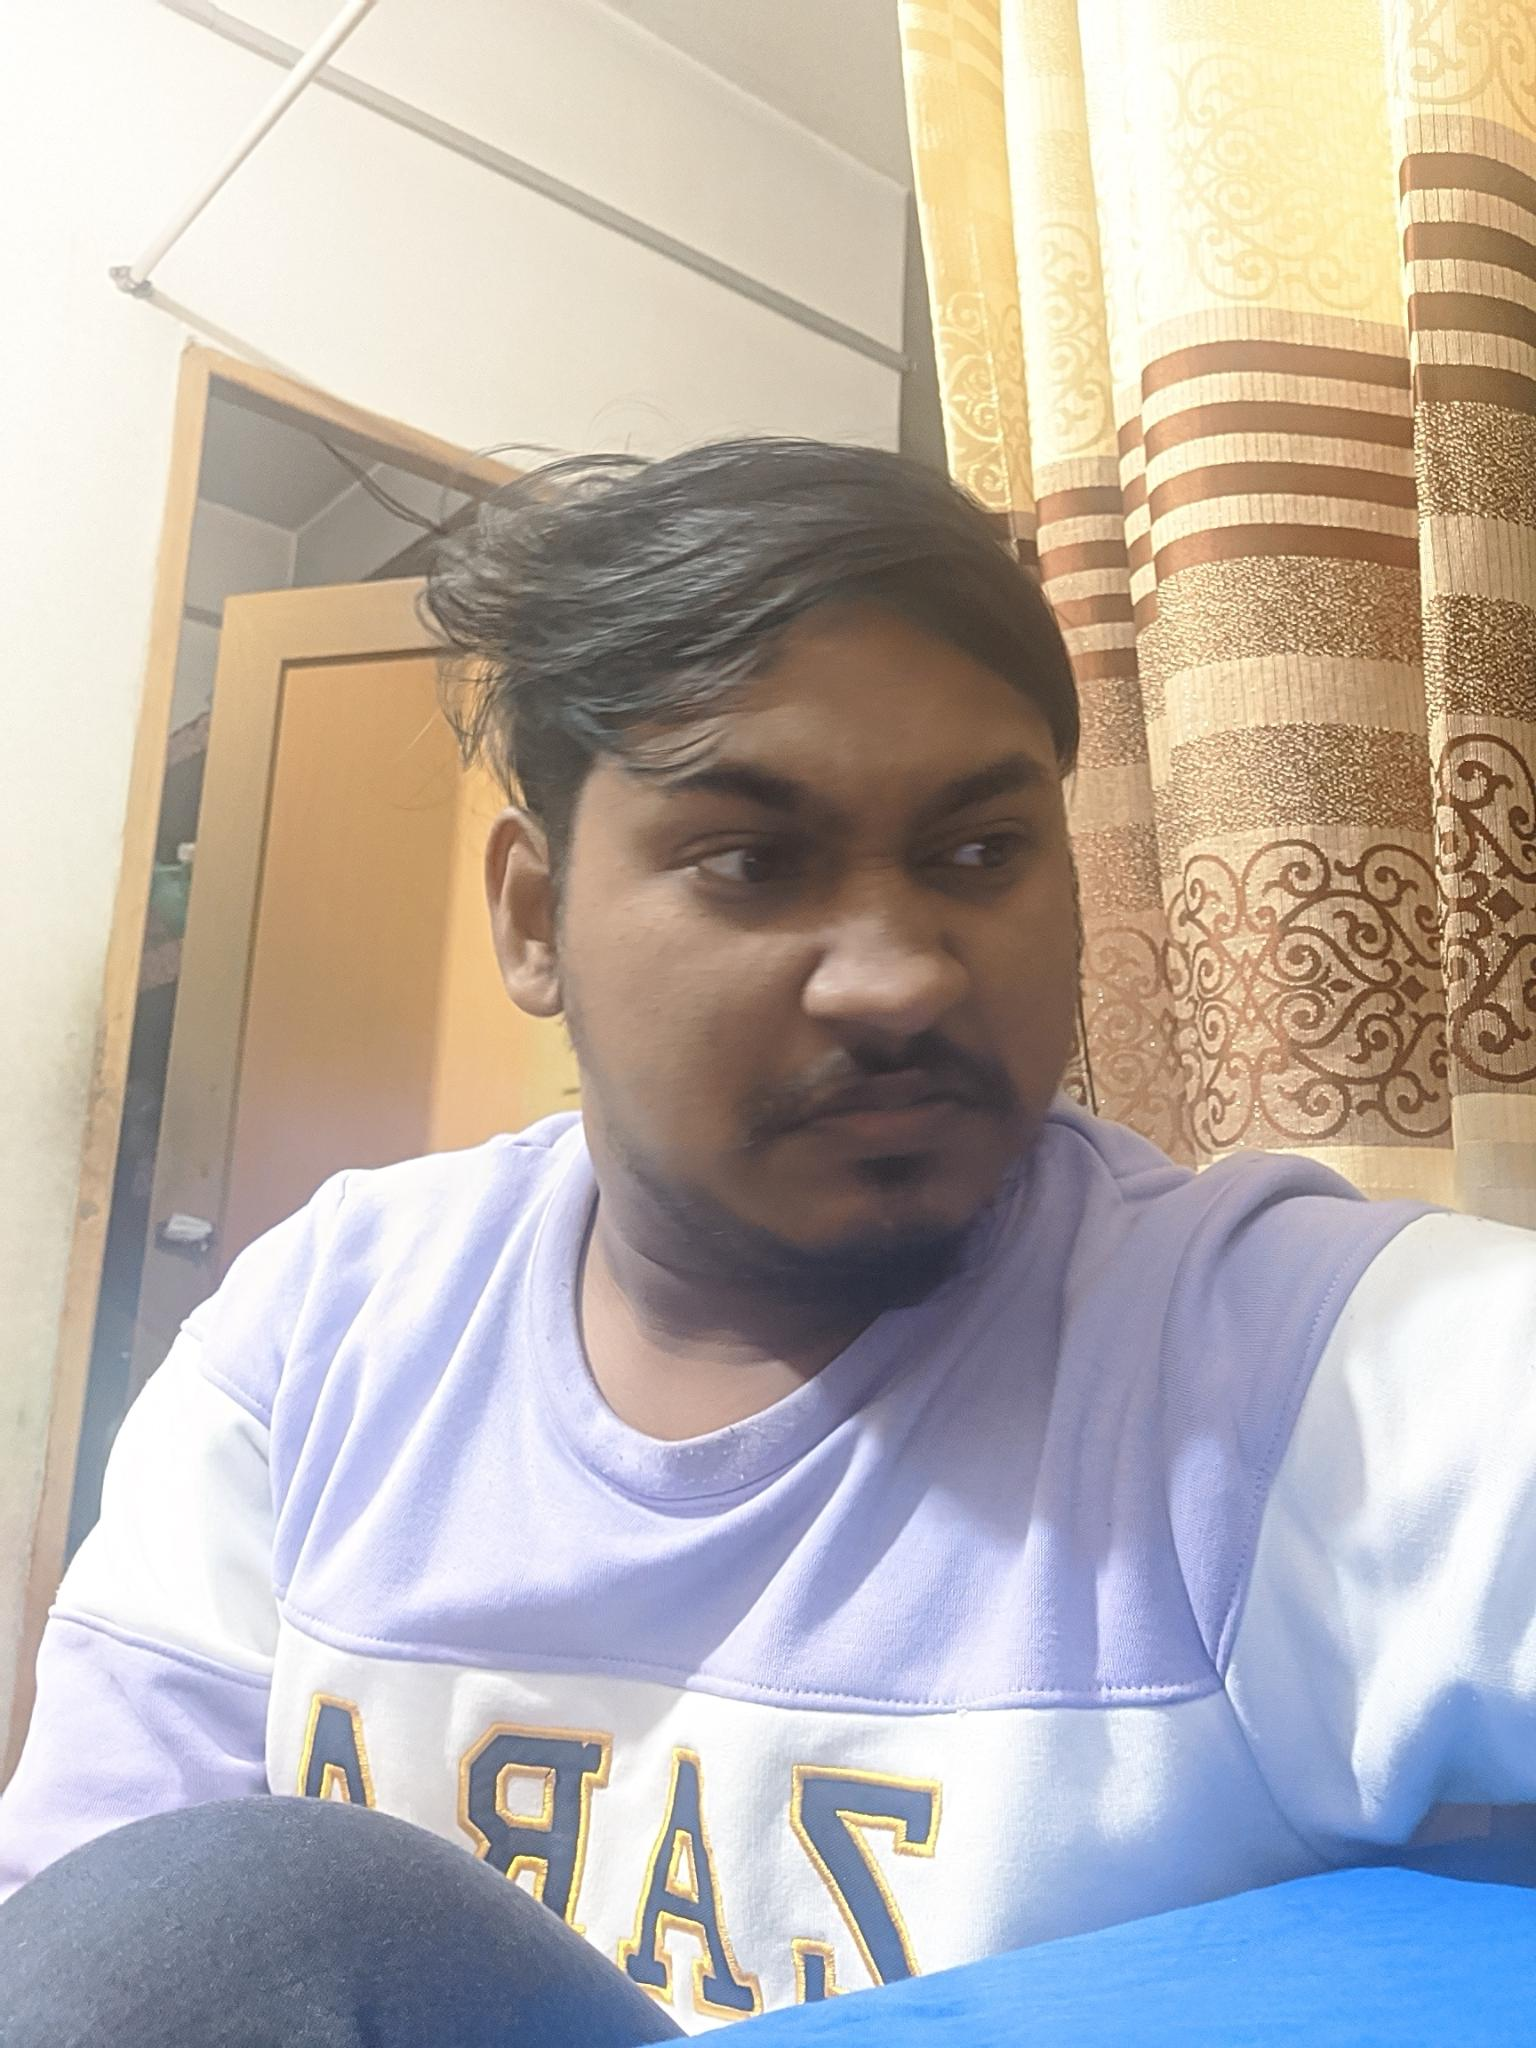Angry: (529, 661, 1126, 1276)
